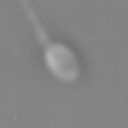normal: (14, 1, 49, 48)
